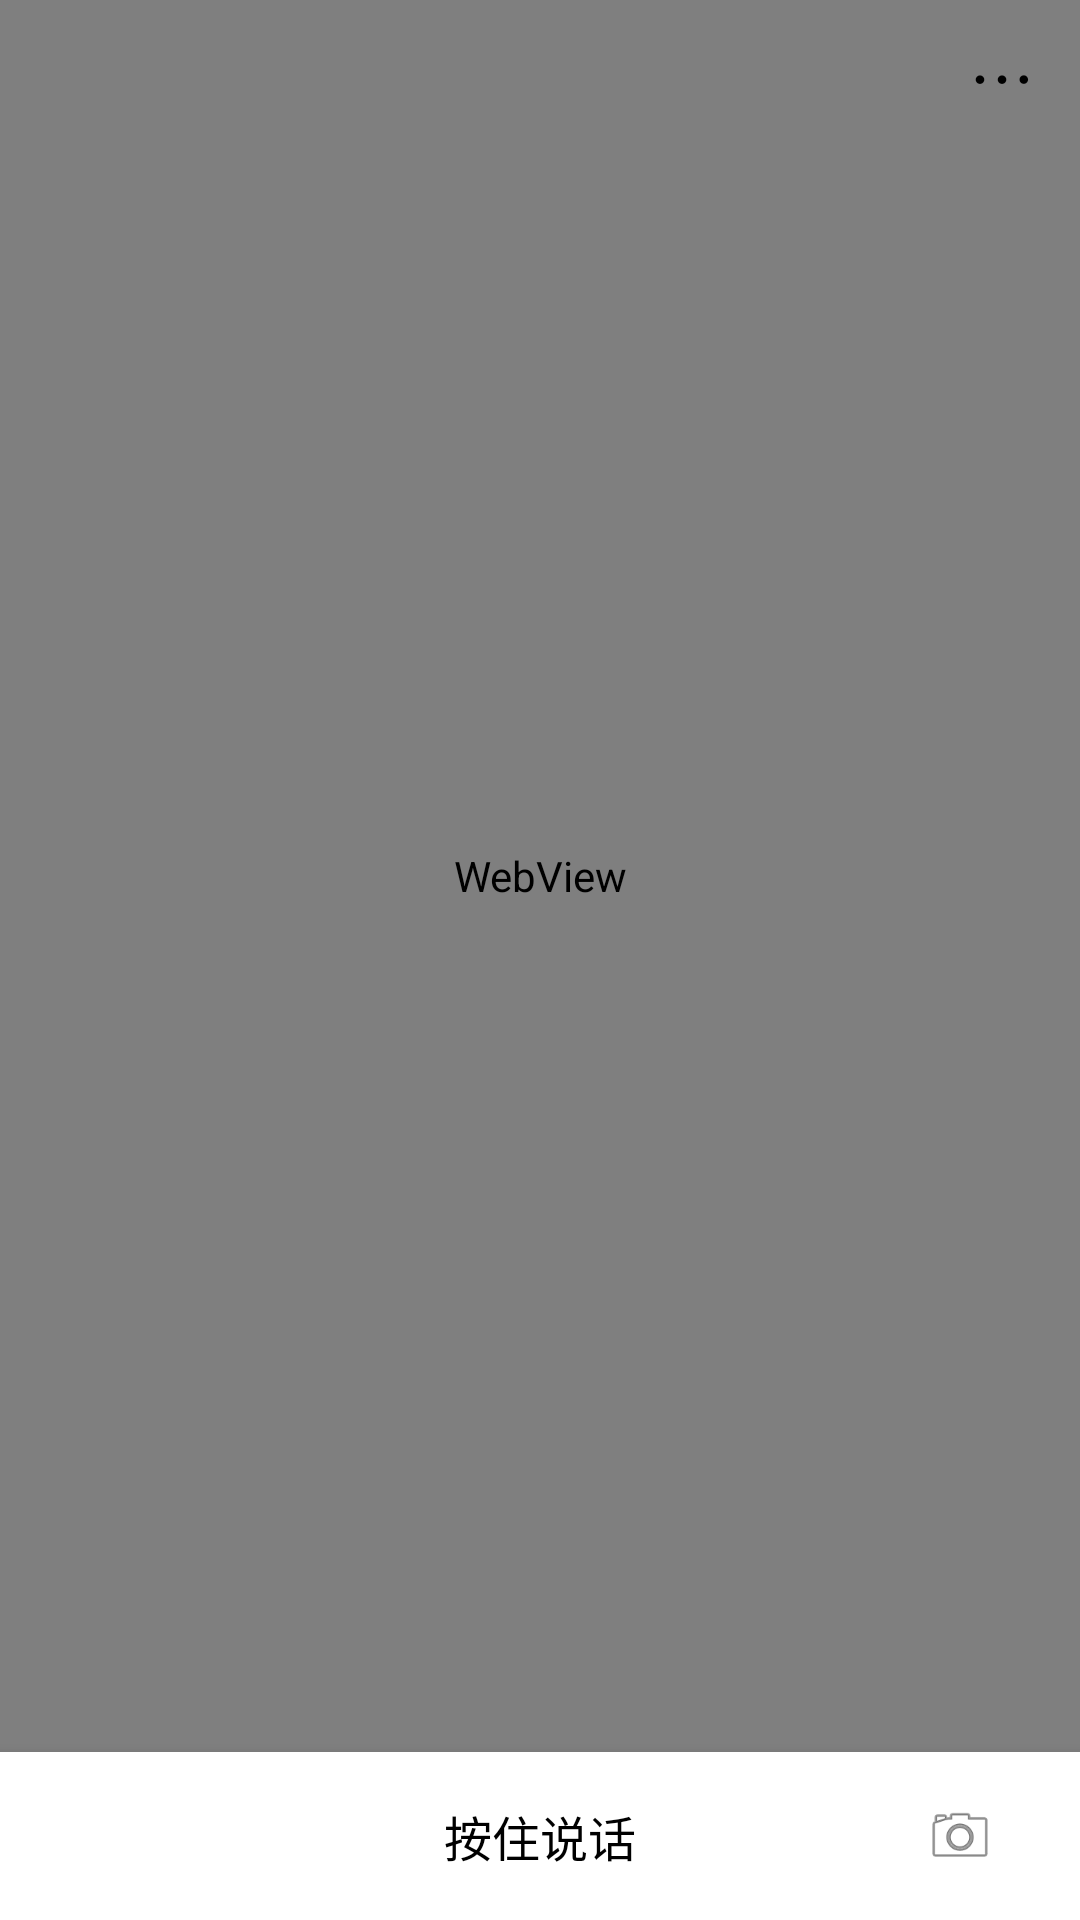

Icons on this 1080×1920 Android screen, each with its box as {"left": x1, "top": y1, "right": x2, "bottom": y2}:
拍照: {"left": 932, "top": 1813, "right": 988, "bottom": 1857}
